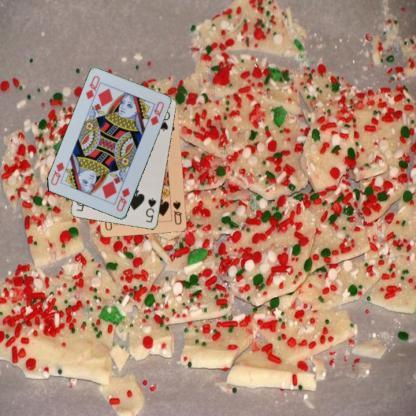5s: (143, 195, 157, 224)
Qd: (83, 74, 102, 104), (114, 186, 132, 212)
Qs: (171, 198, 183, 226)
